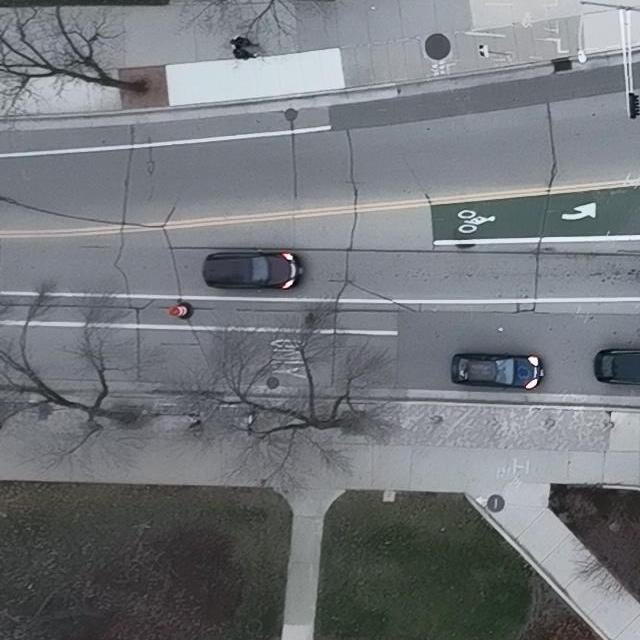car: (202, 249, 305, 293), (450, 352, 545, 391), (593, 349, 640, 385)
